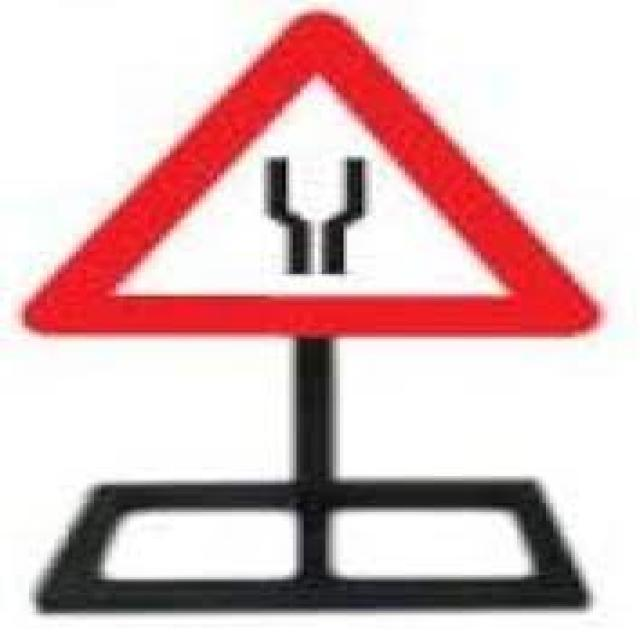road widens ahead: (29, 11, 604, 337)
